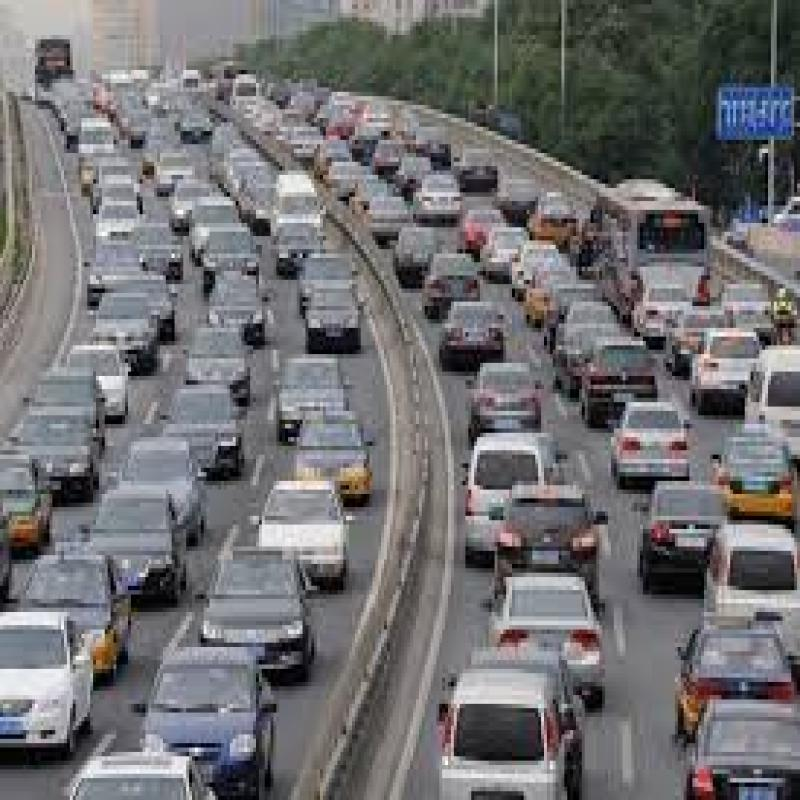car: (138, 623, 292, 800), (435, 651, 581, 800), (488, 554, 620, 707), (200, 528, 326, 678), (0, 600, 114, 757), (683, 524, 800, 660), (166, 374, 246, 486)
